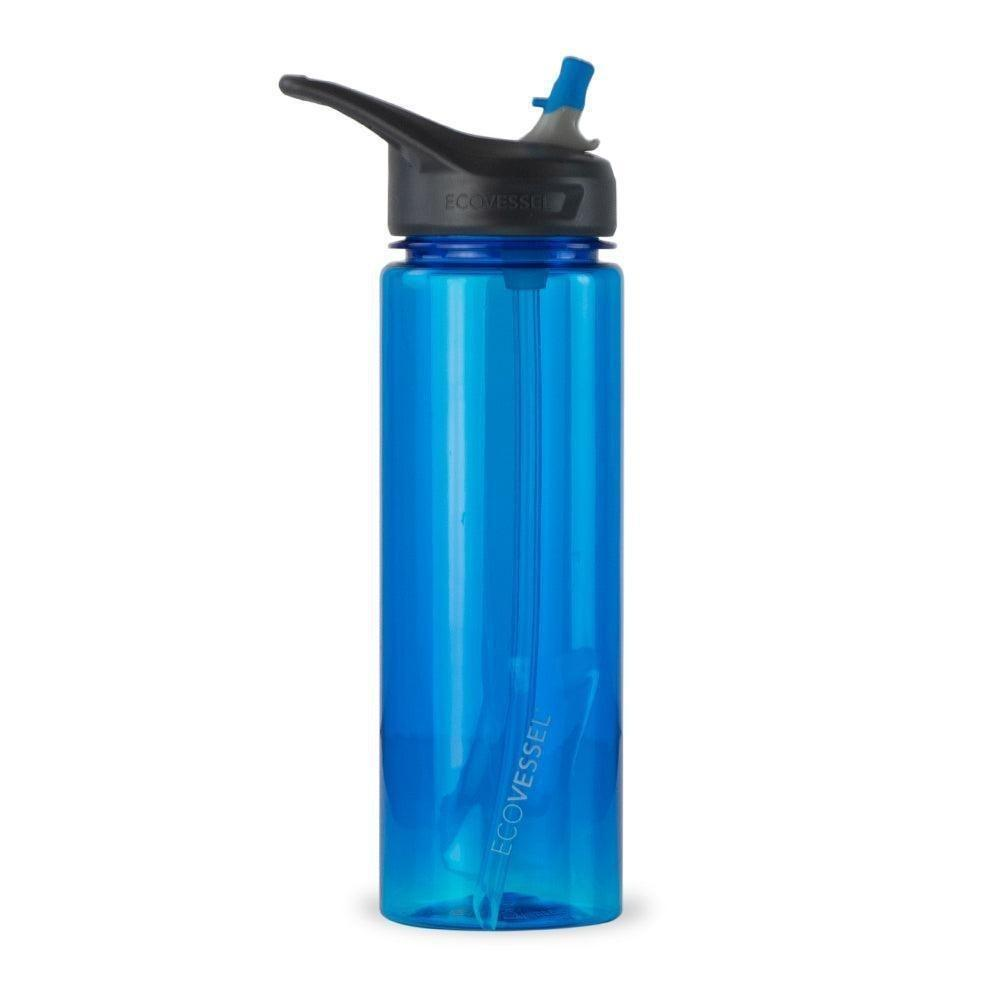gym bottle: (276, 51, 637, 942)
